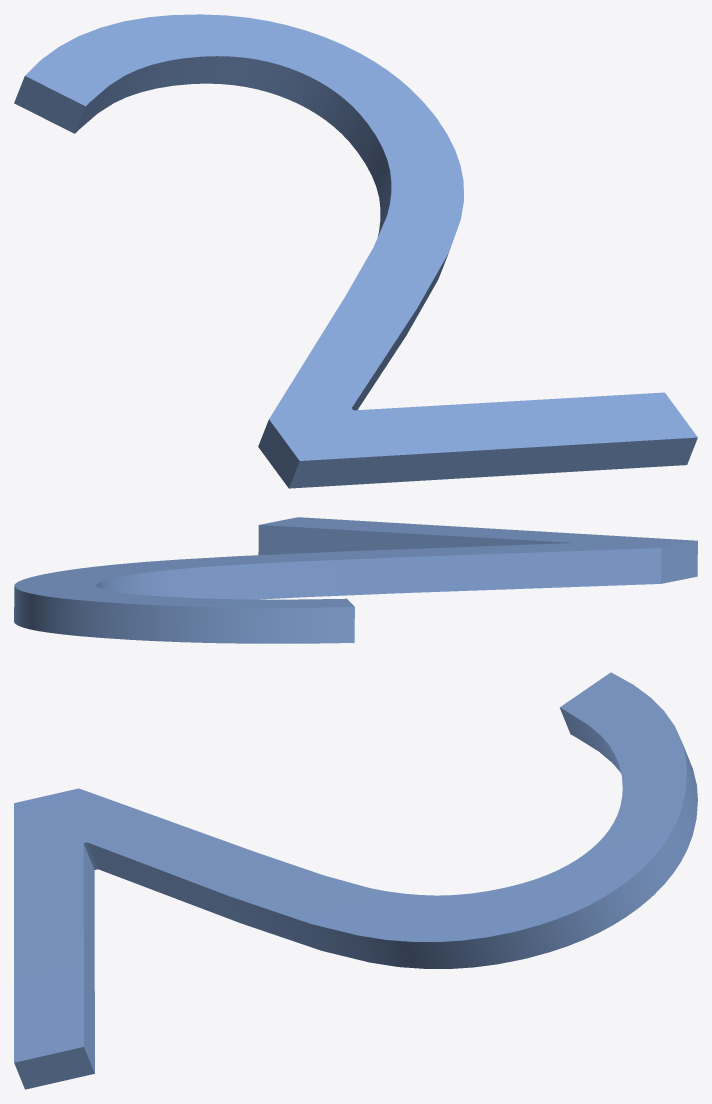
The model's file is New_Number_2.gltf.
3 renders of one model, top to bottom at view 1: azimuth 30°, elevation 25°; view 2: azimuth 150°, elevation 25°; view 3: azimuth 270°, elevation 25°, orthographic. The views are drawn at different scales.
Parts seen in each view (by area): view 1: Part 731; view 2: Part 731; view 3: Part 731.
Boxes of the visible parts, x1,y1,x2,y2 form: Part 731: [14, 14, 697, 488]; Part 731: [14, 517, 697, 643]; Part 731: [14, 672, 697, 1089].
Size of the model in its own units: 0.00333 by 0.00201 by 0.00501.
